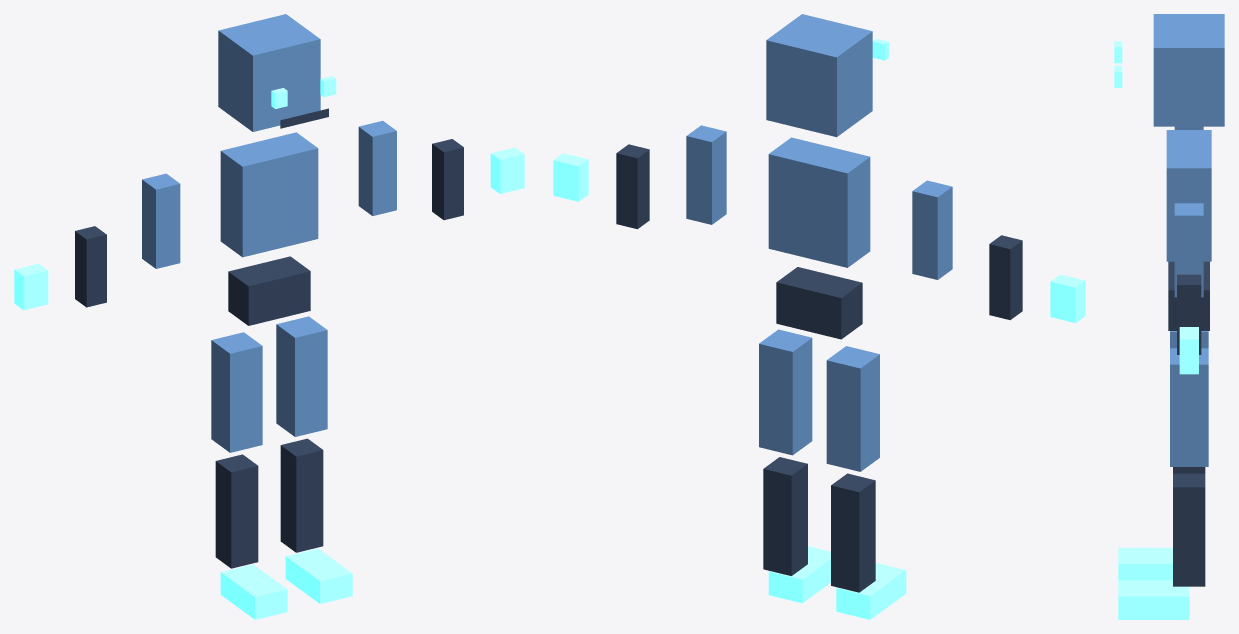
File: pawflow-bot.glb
3 views of the same model, side by side, from view 1: azimuth 30°, elevation 25°; view 2: azimuth 150°, elevation 25°; view 3: azimuth 270°, elevation 25° (orthographic). The views are drawn at different scales.
Parts seen in each view (by area): view 1: TorsoShell, HeadShell, LeftThighShell, RightThighShell, LeftShinShell, RightShinShell, PelvisShell, RightUpperArmShell, LeftUpperArmShell, LeftFootShell, RightFootShell, LeftForeArmShell (+3 smaller); view 2: TorsoShell, HeadShell, LeftThighShell, RightThighShell, LeftShinShell, PelvisShell, RightShinShell, LeftUpperArmShell, RightUpperArmShell, LeftForeArmShell, RightForeArmShell, RightFootShell (+3 smaller); view 3: HeadShell, TorsoShell, LeftThighShell, LeftShinShell, LeftFootShell, LeftUpperArmShell, RightFootShell, LeftForeArmShell, PelvisShell, LeftHandShell, RightThighShell, RightShinShell (+2 smaller).
Part boxes in pixels (box(x1,y1,x2,y2)): TorsoShell: box(220, 132, 318, 257); HeadShell: box(218, 14, 320, 131); LeftThighShell: box(276, 316, 327, 436); RightThighShell: box(211, 332, 262, 452); LeftShinShell: box(280, 438, 323, 552); RightShinShell: box(215, 454, 258, 568); PelvisShell: box(228, 256, 310, 325); RightUpperArmShell: box(142, 173, 180, 268); LeftUpperArmShell: box(358, 120, 396, 215); LeftFootShell: box(285, 548, 352, 603); RightFootShell: box(220, 564, 287, 619); LeftForeArmShell: box(432, 139, 463, 220); TorsoShell: box(768, 137, 870, 267); HeadShell: box(766, 14, 872, 137); LeftThighShell: box(759, 329, 812, 455); RightThighShell: box(826, 346, 879, 471); LeftShinShell: box(763, 457, 807, 575); PelvisShell: box(776, 267, 862, 339); RightShinShell: box(831, 473, 875, 592); LeftUpperArmShell: box(686, 125, 726, 224); RightUpperArmShell: box(912, 180, 952, 279); LeftForeArmShell: box(616, 144, 649, 229); RightForeArmShell: box(989, 235, 1022, 320); RightFootShell: box(836, 563, 906, 619); HeadShell: box(1153, 14, 1224, 126); TorsoShell: box(1166, 130, 1211, 261); LeftThighShell: box(1170, 348, 1208, 466); LeftShinShell: box(1173, 473, 1205, 586); LeftFootShell: box(1118, 580, 1189, 619); LeftUpperArmShell: box(1174, 203, 1203, 297); RightFootShell: box(1118, 547, 1172, 580); LeftForeArmShell: box(1177, 274, 1201, 354); PelvisShell: box(1168, 261, 1209, 330); LeftHandShell: box(1179, 327, 1198, 374); RightThighShell: box(1170, 331, 1208, 348); RightShinShell: box(1173, 467, 1205, 473).
Bounding box in the file's own units: 1.85 × 1.93 × 0.3425.
